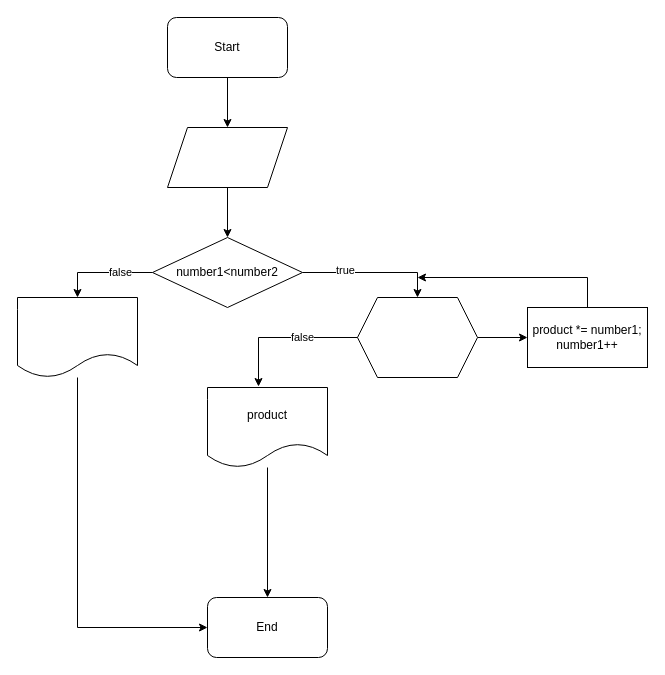
Image size: 665x675. Some labels were removed from this diagram. Here are the shapes that lost their labels. From the top down, the box of each, then its label:
(166, 126, 288, 188): number1; number2; product = 1;
(16, 296, 138, 378): "wrong input"
(356, 296, 478, 378): number1<number2;
